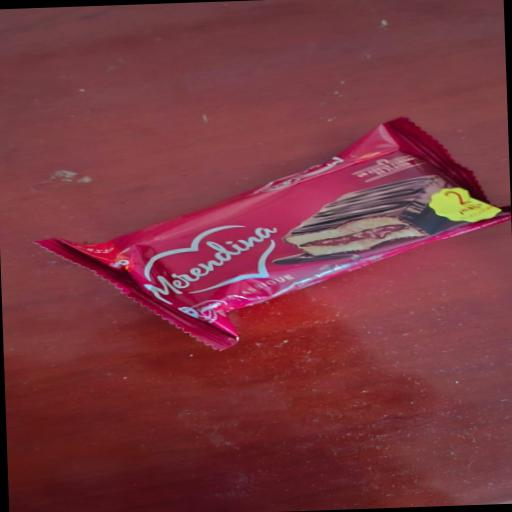merendina: (13, 91, 512, 363)
